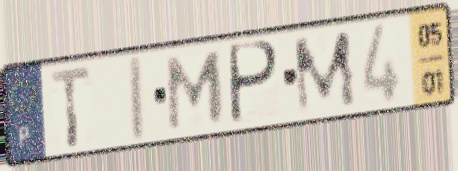4: (360, 19, 407, 108)
I: (128, 51, 149, 147)
M: (290, 26, 360, 118), (166, 48, 226, 135)
P: (228, 38, 282, 128)
T: (47, 63, 94, 151)
